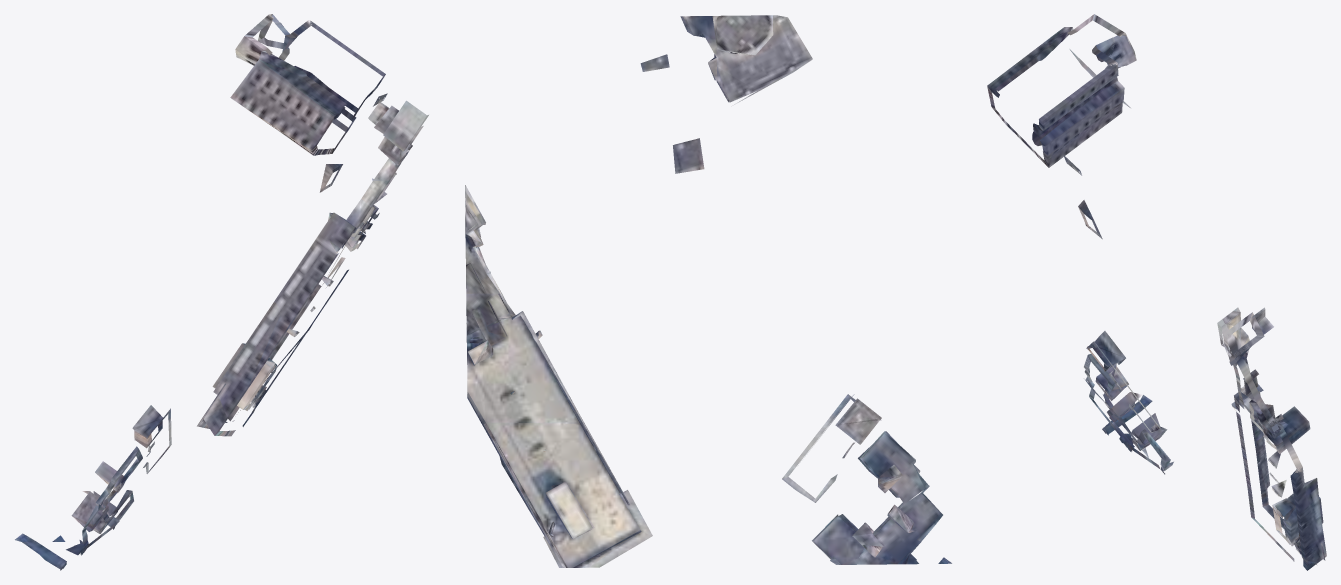
3 renders of one model, left to right at view 1: azimuth 30°, elevation 25°; view 2: azimuth 150°, elevation 25°; view 3: azimuth 270°, elevation 25°, orthographic. The views are drawn at different scales.
Bounding box in the file's own units: 147 × 155 × 93.06.
1 material, 1 textured.
